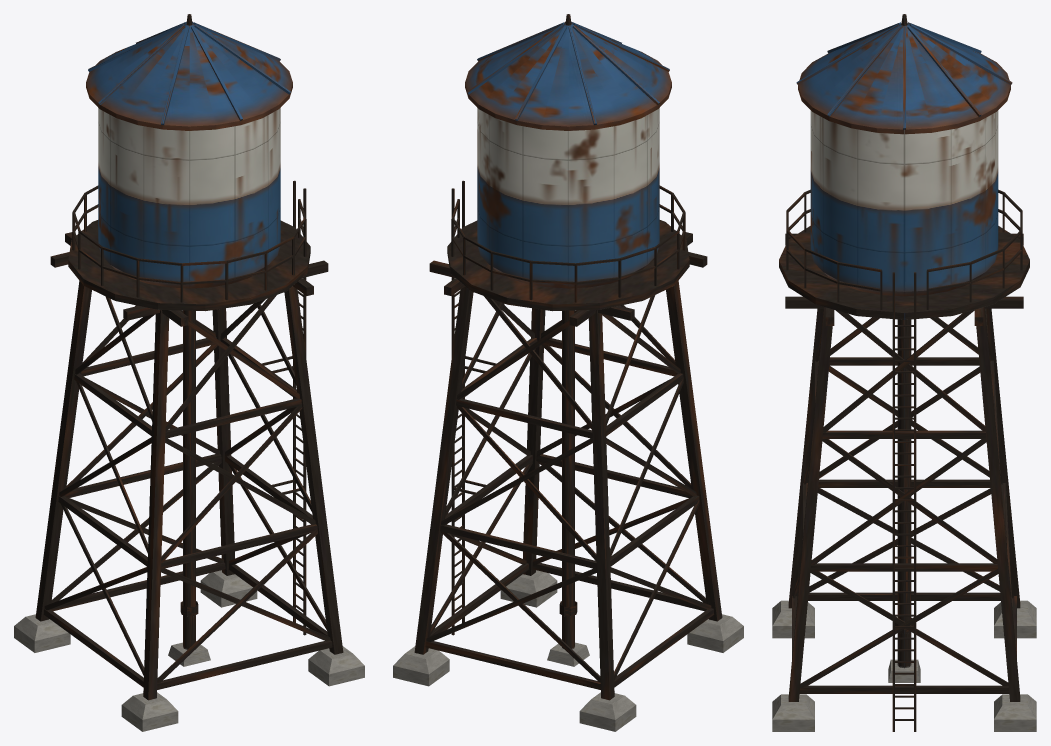
Rendered from water_tower.glb.
3 renders of one model, left to right at view 1: azimuth 30°, elevation 25°; view 2: azimuth 150°, elevation 25°; view 3: azimuth 270°, elevation 25°, orthographic. The views are drawn at different scales.
Visible parts, largest first — view 1: WaterTower; view 2: WaterTower; view 3: WaterTower.
Boxes of the visible parts, box(x1,y1,x2,y2) form: WaterTower: box(14, 14, 364, 731); WaterTower: box(393, 14, 743, 731); WaterTower: box(772, 14, 1036, 731).
Size of the model in its own units: 6.2 by 17.13 by 6.2.
Materials: 1 (1 with a texture image).
